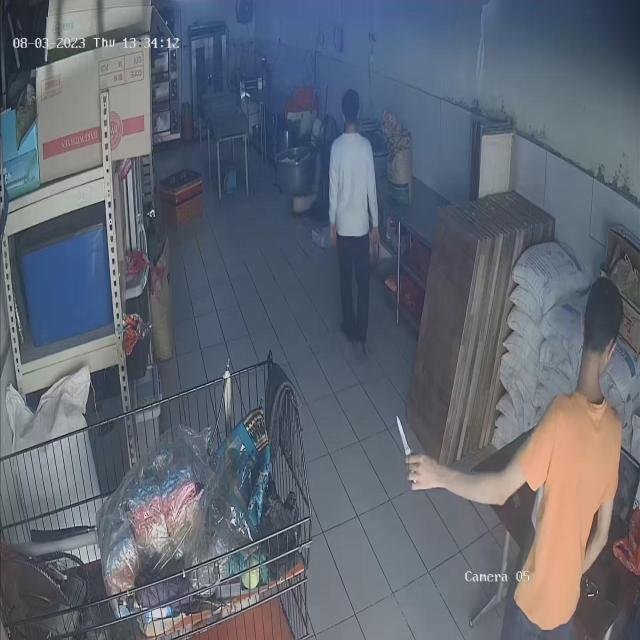Knife: (388, 408, 434, 486)
